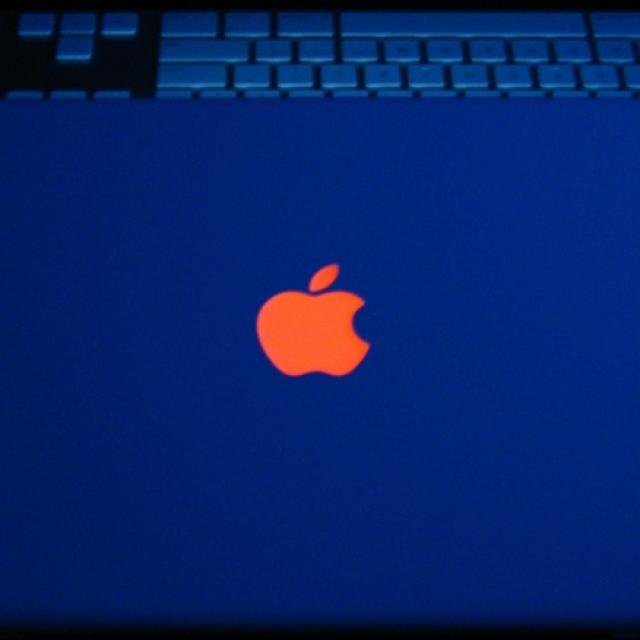apple: (242, 261, 378, 385)
